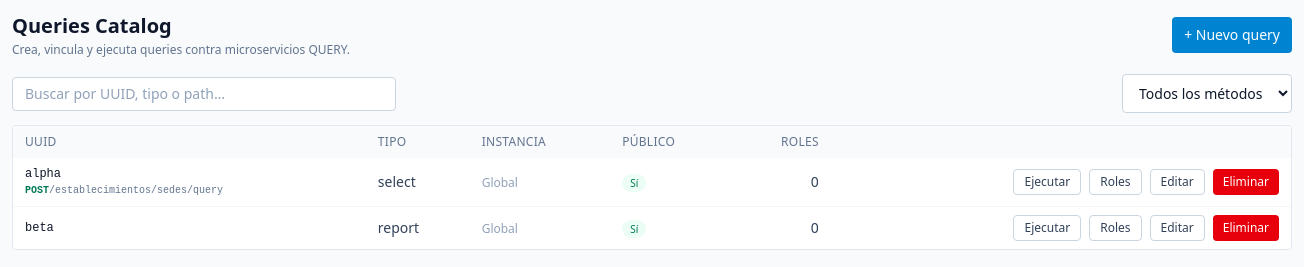
Test: QueriesAdminPage › search box also matches the path template, not just uuid/type
Expected: the text "alpha" is shown, [25,167,61,181]
Expected: the text "beta" is shown, [25,221,54,235]
Type "sedes/query" into the search field with placeholder "Buscar por UUID, tipo o path…" at point(204, 94), box [12,76,396,110]
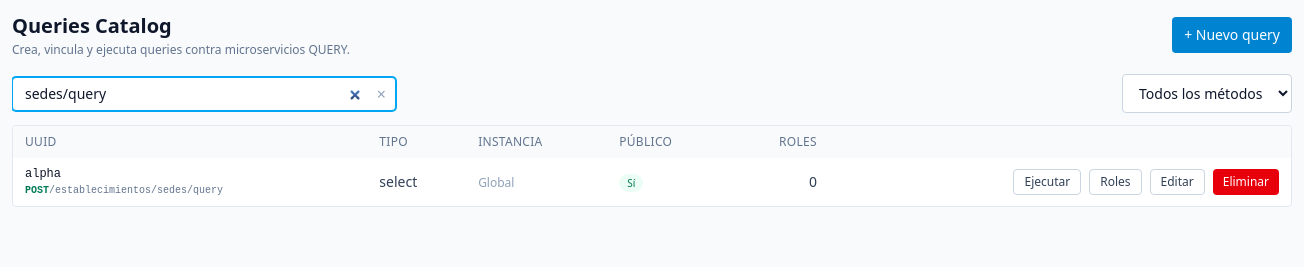
Expected: the text "alpha" is shown, [25,167,61,181]
Result: the text "beta" is gone
